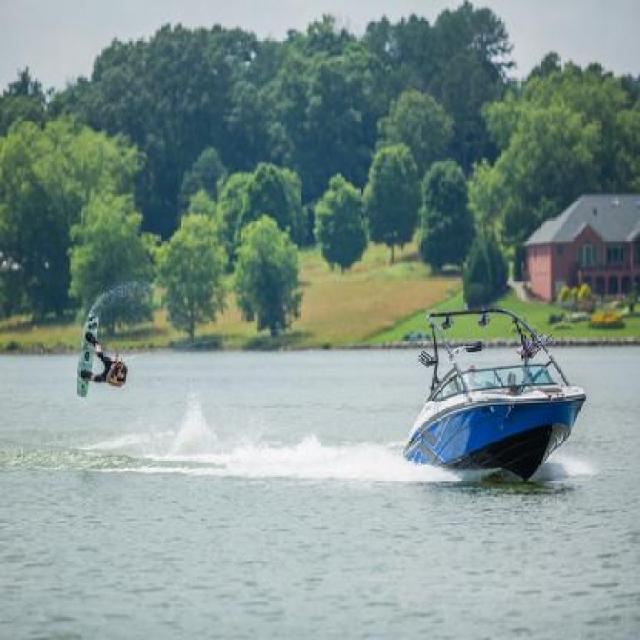ship: (399, 300, 586, 477)
